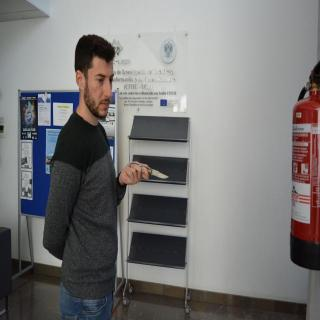knife: (127, 160, 171, 182)
